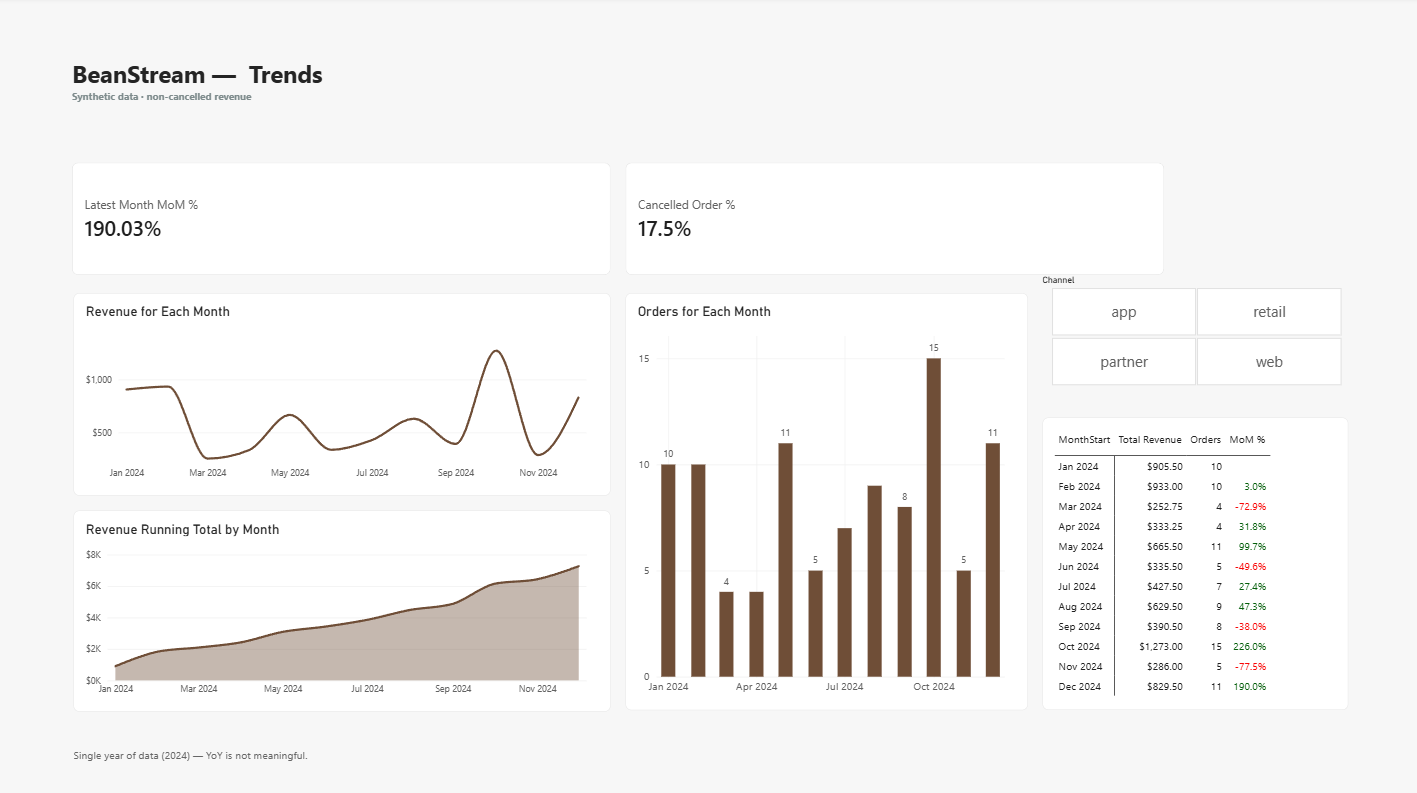

This screenshot's page, from the dashboard's own definition file:
{"tool":"powerbi","page":{"name":"Trends","canvas":[1920,1080],"ordinal":1},"visuals":[{"type":"textbox","box":[97.3,82.5,1724.5,132.7],"z":0},{"type":"cardVisual","fields":{"Data":["fact_sales.MoM %","fact_sales.Cancelled Order %"]},"box":[97.3,224.6,1160.5,152.2],"z":1},{"type":"slicer","fields":{"Values":["dim_channel.channel"]},"box":[1400.1,376.8,431.2,150.9],"z":2},{"type":"lineChart","title":"Revenue for Each Month","fields":{"Category":["dim_date.MonthStart"],"Y":["fact_sales.Total Revenue"]},"box":[99.8,401.8,725.9,273.7],"z":3},{"type":"clusteredColumnChart","title":"Orders for Each Month","fields":{"Category":["dim_date.MonthStart"],"Y":["fact_sales.Orders"]},"box":[846,401.8,544.1,564],"z":4},{"type":"pivotTable","fields":{"Rows":["dim_date.MonthStart"],"Values":["fact_sales.Total Revenue","fact_sales.Orders","fact_sales.MoM %"]},"box":[1410.1,534.1,411.8,431.8],"z":5},{"type":"areaChart","title":"Revenue Running Total by Month","fields":{"Category":["dim_date.MonthStart"],"Y":["fact_sales.Revenue Running Total"]},"box":[99.8,696.3,726.2,272],"z":6},{"type":"textbox","box":[99.4,1015.8,1723.4,44.6],"z":7}]}

Visuals, with their boxes in screenshot pixels (x1, y1, x2, y2), scaled from the page's 1920x1080 canvas onto the 1417x793 screenshot:
textbox: locate(72, 61, 1345, 158)
cardVisual - fact_sales.MoM % x fact_sales.Cancelled Order %: locate(72, 165, 928, 277)
slicer - dim_channel.channel: locate(1033, 277, 1352, 387)
"Revenue for Each Month" lineChart: locate(74, 295, 609, 496)
"Orders for Each Month" clusteredColumnChart: locate(624, 295, 1026, 709)
pivotTable - dim_date.MonthStart x fact_sales.Total Revenue: locate(1041, 392, 1345, 709)
"Revenue Running Total by Month" areaChart: locate(74, 511, 610, 711)
textbox: locate(73, 746, 1345, 779)
